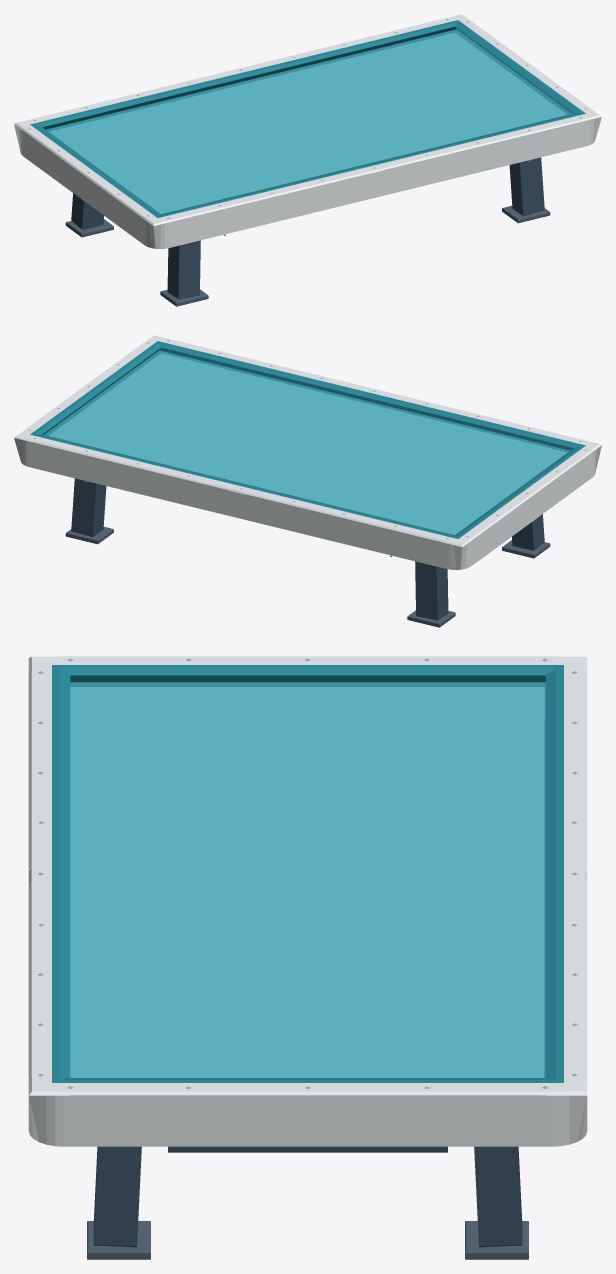
File: table-threecushion-10-chinese-ivory.glb
3 views of the same model, one above another, from view 1: azimuth 30°, elevation 25°; view 2: azimuth 150°, elevation 25°; view 3: azimuth 270°, elevation 25° (orthographic). The views are drawn at different scales.
Visible parts, largest first — view 1: table-threecushion-10-chinese-ivory, break-builder-table-support; view 2: table-threecushion-10-chinese-ivory, break-builder-table-support; view 3: table-threecushion-10-chinese-ivory, break-builder-table-support.
Part boxes in pixels (box(x1,y1,x2,y2)): table-threecushion-10-chinese-ivory: box(14, 14, 601, 248); break-builder-table-support: box(65, 157, 550, 306); table-threecushion-10-chinese-ivory: box(14, 335, 601, 569); break-builder-table-support: box(65, 478, 550, 627); table-threecushion-10-chinese-ivory: box(28, 656, 587, 1146); break-builder-table-support: box(87, 1146, 528, 1259).
Bounding box in the file's own units: 3.28 × 0.7156 × 1.77.
